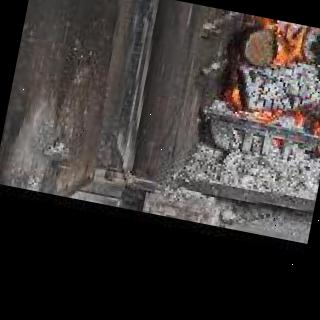fire: (224, 11, 320, 71)
